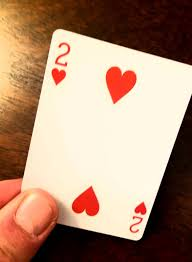two of hearts: (18, 29, 192, 240)
